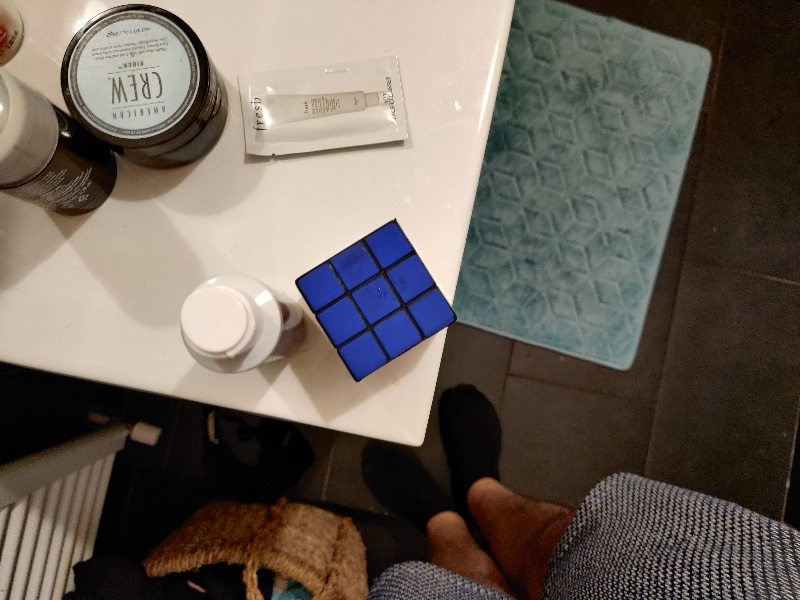rubik: (294, 220, 457, 384)
